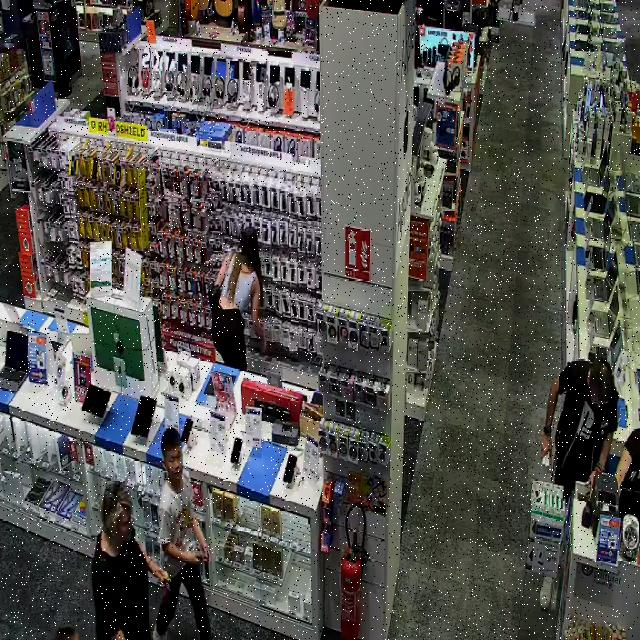article: (187, 542, 203, 556)
bags: (208, 284, 222, 312)
hands: (151, 561, 173, 591), (200, 543, 212, 564), (187, 552, 203, 566), (259, 327, 271, 339)
person: (152, 427, 209, 639), (92, 481, 168, 639), (541, 359, 618, 501), (213, 228, 265, 368)
